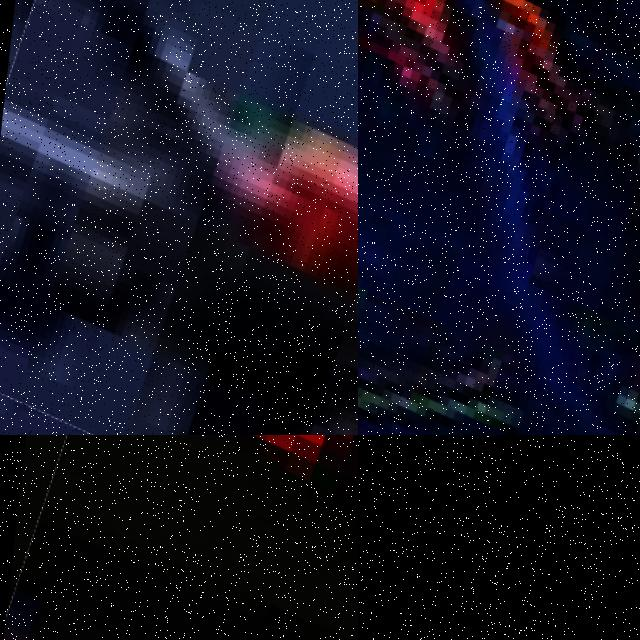0: (0, 0, 358, 435)
drone: (358, 0, 640, 435), (0, 435, 358, 640)
